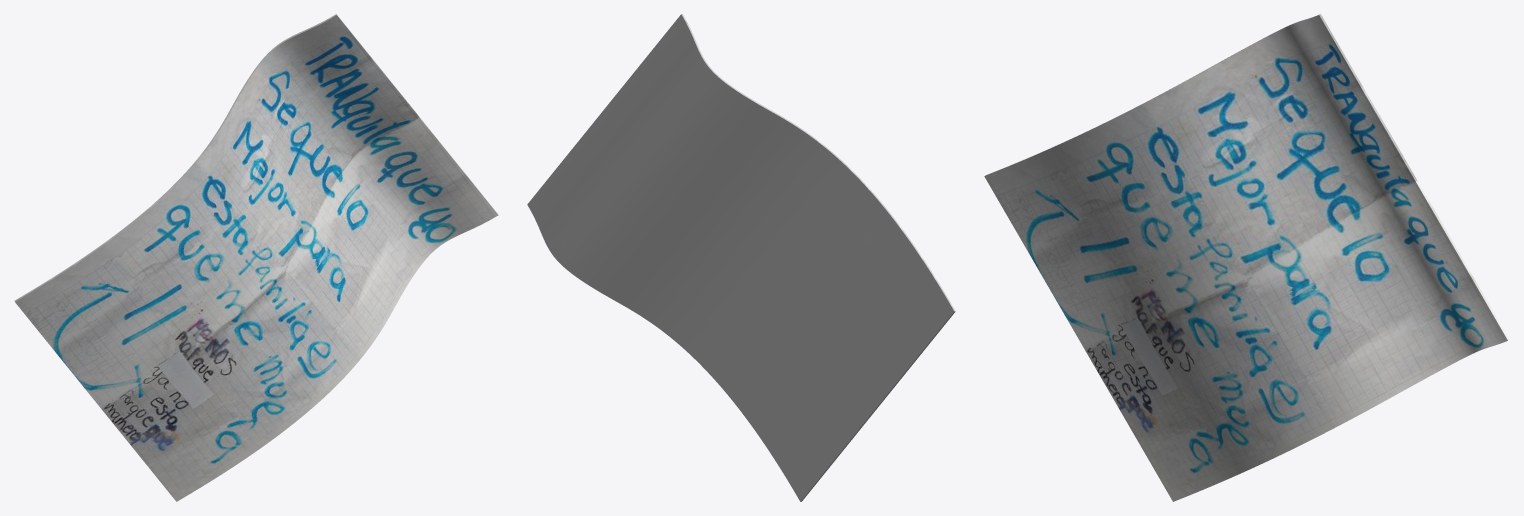
File: nota.dae
3 views of the same model, side by side, from view 1: azimuth 30°, elevation 25°; view 2: azimuth 150°, elevation 25°; view 3: azimuth 330°, elevation 25° (orthographic). The views are drawn at different scales.
Visible parts, largest first — view 1: node; view 2: node; view 3: node.
Boxes of the visible parts, left/top/right/bottom form: node: left=14, top=14, right=498, bottom=501; node: left=527, top=14, right=955, bottom=501; node: left=984, top=14, right=1509, bottom=501.
Bounding box in the file's own units: 268 × 255 × 24.77.
